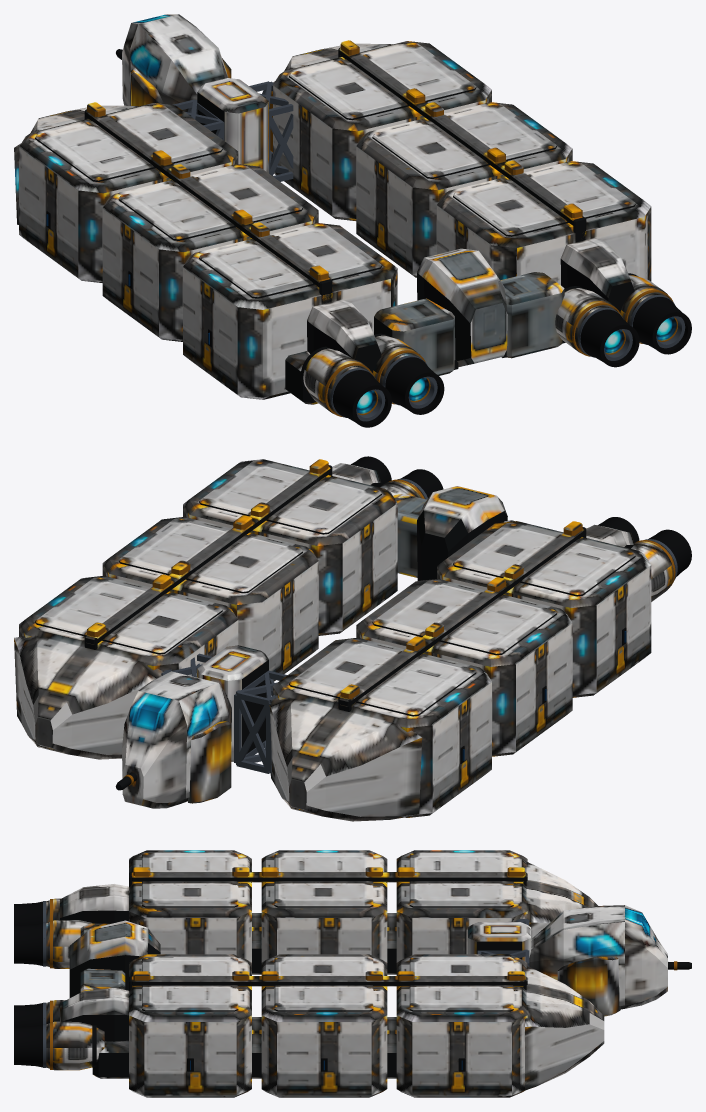
File: large-freighter.obj
3 renders of one model, top to bottom at view 1: azimuth 30°, elevation 25°; view 2: azimuth 150°, elevation 25°; view 3: azimuth 270°, elevation 25°, orthographic. The views are drawn at different scales.
Parts seen in each view (by area): view 1: cargo.port.3_|_beveled_pressure_container, cargo.port.1_|_beveled_pressure_container, cargo.port.2_|_beveled_pressure_container, cargo.starboard.2_|_beveled_pressure_container, cargo.starboard.1_|_beveled_pressure_container, cargo.starboard.3_|_beveled_pressure_container, cargo.starboard.1_|_dorsal_loading_panel, cargo.port.1_|_dorsal_loading_panel, stern_|_central_reactor-service_fairing, cargo.port.2_|_dorsal_loading_panel, cargo.starboard.2_|_dorsal_loading_panel, cargo.port.3_|_dorsal_loading_panel (+25 smaller); view 2: keel.port_|_tapered_forward_bow, keel.starboard_|_tapered_forward_bow, cargo.port.2_|_beveled_pressure_container, cargo.starboard.3_|_beveled_pressure_container, cargo.port.3_|_beveled_pressure_container, cargo.port.1_|_beveled_pressure_container, cargo.starboard.2_|_beveled_pressure_container, bridge_|_faceted_command_cabin, cargo.starboard.1_|_dorsal_loading_panel, cargo.port.1_|_dorsal_loading_panel, cargo.port.2_|_dorsal_loading_panel, cargo.starboard.2_|_dorsal_loading_panel (+13 smaller); view 3: cargo.starboard.1_|_beveled_pressure_container, cargo.starboard.2_|_beveled_pressure_container, cargo.starboard.3_|_beveled_pressure_container, bridge_|_faceted_command_cabin, cargo.port.2_|_beveled_pressure_container, keel.starboard_|_tapered_forward_bow, cargo.port.3_|_beveled_pressure_container, cargo.port.1_|_beveled_pressure_container, cargo.port.1_|_dorsal_loading_panel, cargo.starboard.1_|_dorsal_loading_panel, cargo.starboard.2_|_dorsal_loading_panel, cargo.port.2_|_dorsal_loading_panel (+19 smaller).
Part boxes in pixels (x1,y1,x2,y2): cargo.port.3_|_beveled_pressure_container: (183,223,397,399); cargo.port.1_|_beveled_pressure_container: (19,103,238,282); cargo.port.2_|_beveled_pressure_container: (102,164,318,341); cargo.starboard.2_|_beveled_pressure_container: (356,102,572,277); cargo.starboard.1_|_beveled_pressure_container: (273,41,491,220); cargo.starboard.3_|_beveled_pressure_container: (437,161,651,284); cargo.starboard.1_|_dorsal_loading_panel: (289,43,476,120); cargo.port.1_|_dorsal_loading_panel: (35,104,222,181); stern_|_central_reactor-service_fairing: (417,248,507,367); cargo.port.2_|_dorsal_loading_panel: (118,166,302,240); cargo.starboard.2_|_dorsal_loading_panel: (372,104,556,178); cargo.port.3_|_dorsal_loading_panel: (199,225,381,298); keel.port_|_tapered_forward_bow: (269,697,422,821); keel.starboard_|_tapered_forward_bow: (14,635,163,759); cargo.port.2_|_beveled_pressure_container: (356,579,572,756); cargo.starboard.3_|_beveled_pressure_container: (183,459,397,635); cargo.port.3_|_beveled_pressure_container: (437,521,651,697); cargo.port.1_|_beveled_pressure_container: (273,637,491,817); cargo.starboard.2_|_beveled_pressure_container: (102,517,318,681); bridge_|_faceted_command_cabin: (122,671,231,808); cargo.starboard.1_|_dorsal_loading_panel: (35,577,222,654); cargo.port.1_|_dorsal_loading_panel: (289,639,476,716); cargo.port.2_|_dorsal_loading_panel: (372,580,556,655); cargo.starboard.2_|_dorsal_loading_panel: (118,518,302,593); cargo.starboard.1_|_beveled_pressure_container: (396,954,527,1097); cargo.starboard.2_|_beveled_pressure_container: (261,954,387,1097); cargo.starboard.3_|_beveled_pressure_container: (129,954,251,1097); bridge_|_faceted_command_cabin: (529,905,667,1009); cargo.port.2_|_beveled_pressure_container: (261,850,387,962); keel.starboard_|_tapered_forward_bow: (525,966,604,1090); cargo.port.3_|_beveled_pressure_container: (129,850,251,962); cargo.port.1_|_beveled_pressure_container: (396,850,527,962); cargo.port.1_|_dorsal_loading_panel: (409,852,513,907); cargo.starboard.1_|_dorsal_loading_panel: (409,956,513,1011); cargo.starboard.2_|_dorsal_loading_panel: (274,956,373,1011); cargo.port.2_|_dorsal_loading_panel: (274,852,373,907).
Bounding box in the file's own units: 9.41 × 2.9 × 15.75.
Materials: 7 (2 with a texture image).
